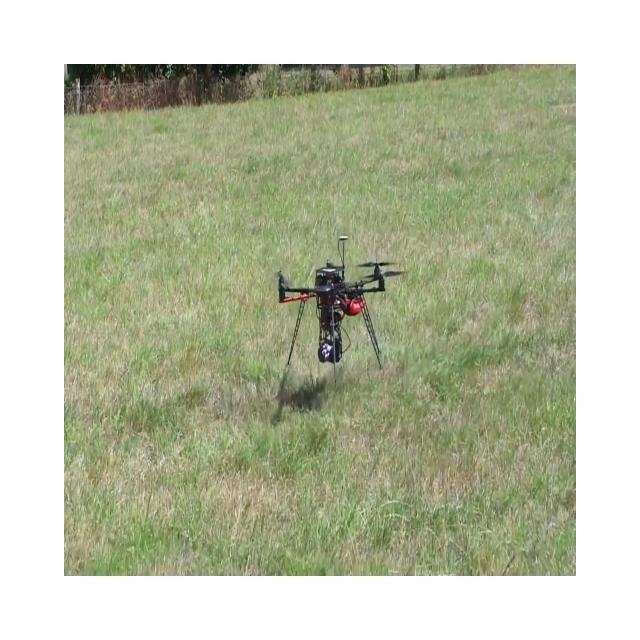drone: (274, 234, 405, 386)
